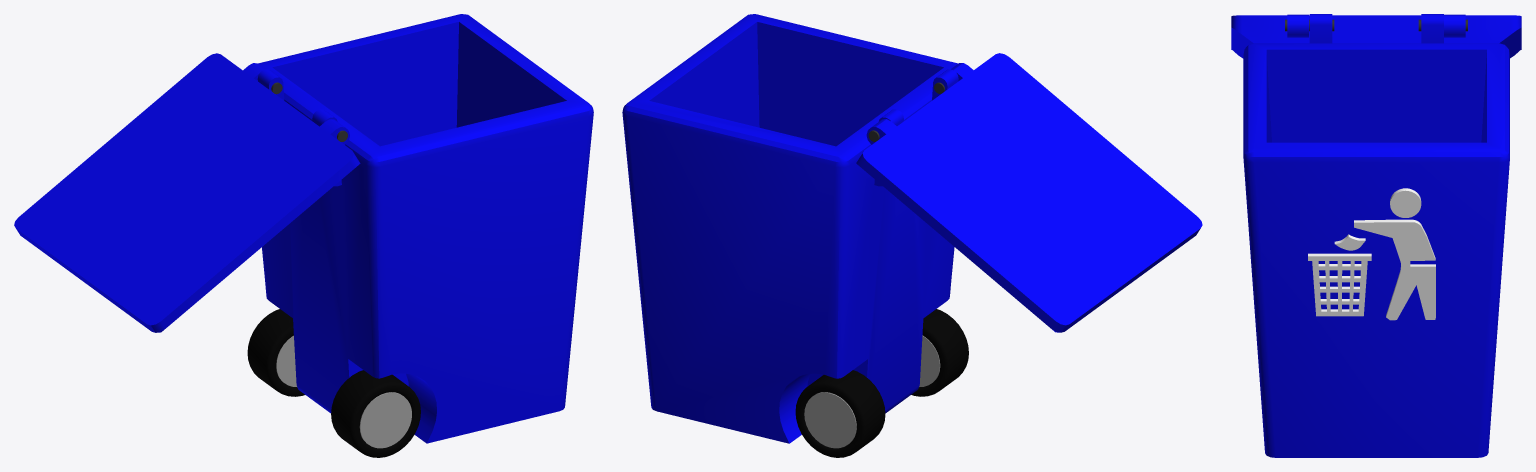
Rendered from General_Bin.glb.
3 renders of one model, left to right at view 1: azimuth 30°, elevation 25°; view 2: azimuth 150°, elevation 25°; view 3: azimuth 270°, elevation 25°, orthographic. The views are drawn at different scales.
Visible parts, largest first — view 1: Cube002, Cube003, Cylinder004, Cylinder005; view 2: Cube002, Cube003, Cylinder004, Cylinder005; view 3: Cube002, Circle, Cube003.
Boxes of the visible parts, x1=… form: Cube002: x1=257, y1=14, x2=593, y2=443; Cube003: x1=14, y1=53, x2=360, y2=332; Cylinder004: x1=247, y1=309, x2=420, y2=457; Cylinder005: x1=276, y1=335, x2=411, y2=448; Cube002: x1=622, y1=14, x2=958, y2=443; Cube003: x1=856, y1=53, x2=1202, y2=332; Cylinder004: x1=795, y1=309, x2=968, y2=457; Cylinder005: x1=804, y1=335, x2=940, y2=448; Cube002: x1=1243, y1=14, x2=1509, y2=457; Circle: x1=1308, y1=188, x2=1435, y2=320; Cube003: x1=1231, y1=14, x2=1521, y2=58.
Size of the model in its own units: 4.79 by 3.38 by 2.6.
